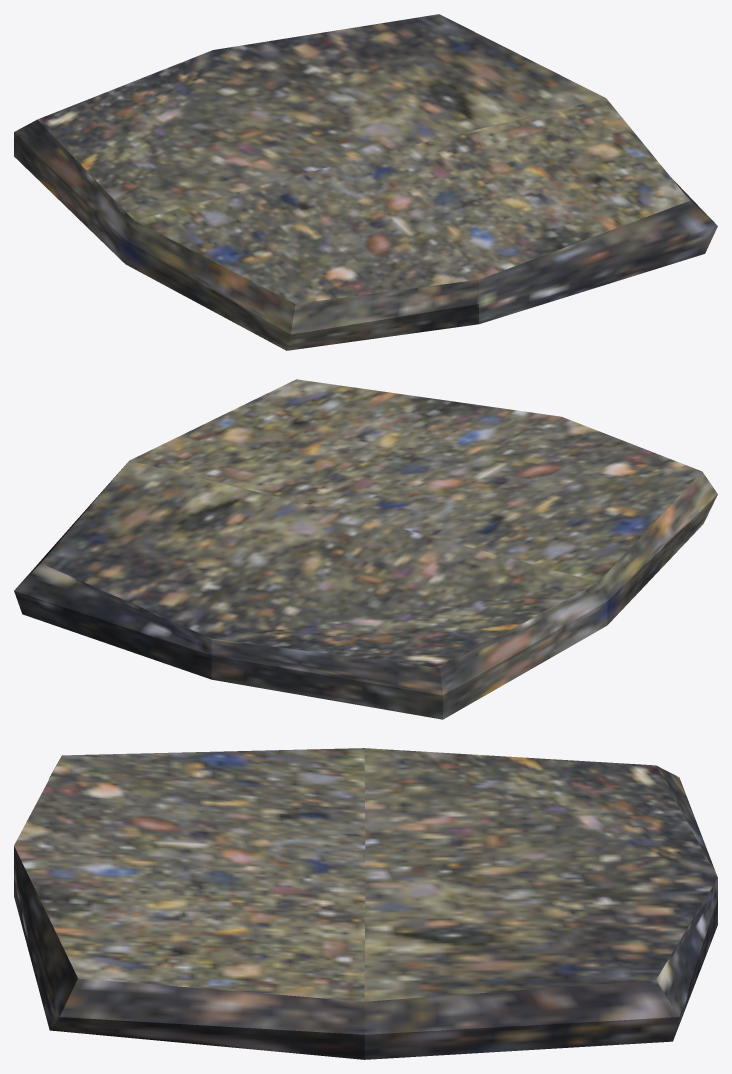
File: platform02.glb
3 views of the same model, one above another, from view 1: azimuth 30°, elevation 25°; view 2: azimuth 150°, elevation 25°; view 3: azimuth 270°, elevation 25° (orthographic). The views are drawn at different scales.
Visible parts, largest first — view 1: Cube; view 2: Cube; view 3: Cube.
Boxes of the visible parts, x1,y1,x2,y2 form: Cube: (14, 14, 717, 350); Cube: (14, 379, 717, 719); Cube: (14, 748, 717, 1059).
Size of the model in its own units: 6.39 by 0.6048 by 6.97.
1 material, 1 textured.
